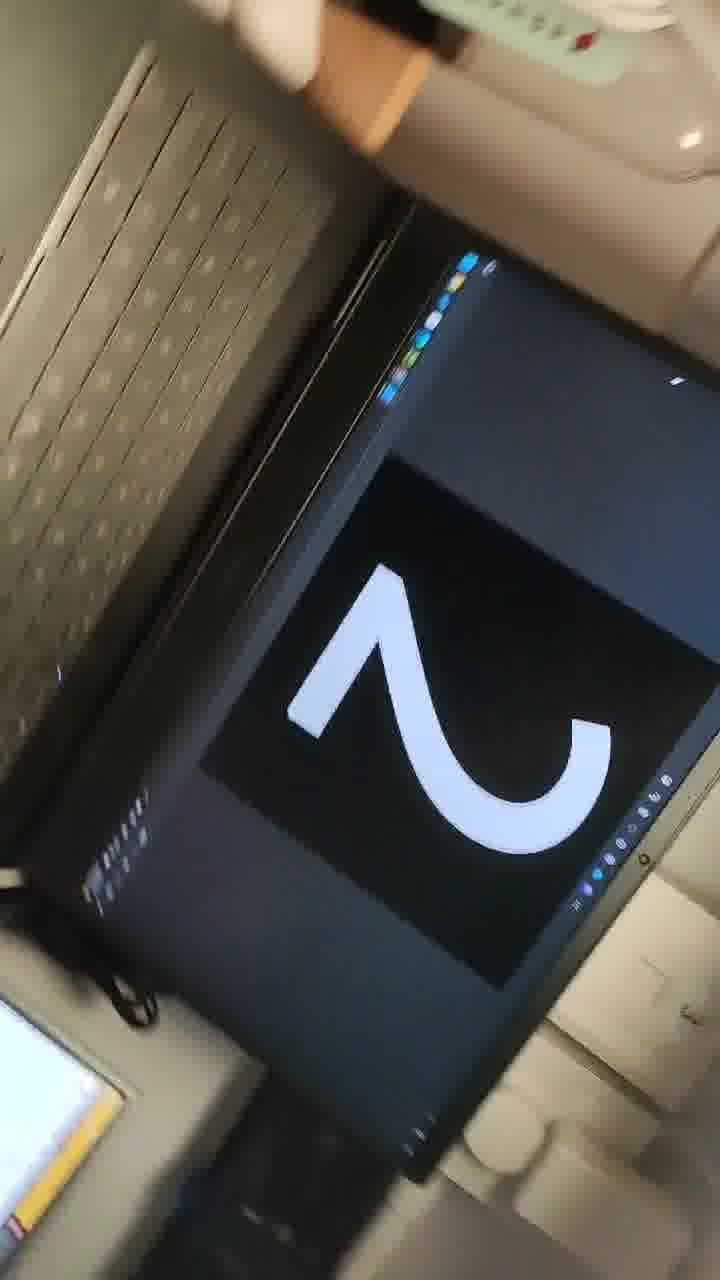two: (242, 518, 607, 912)
